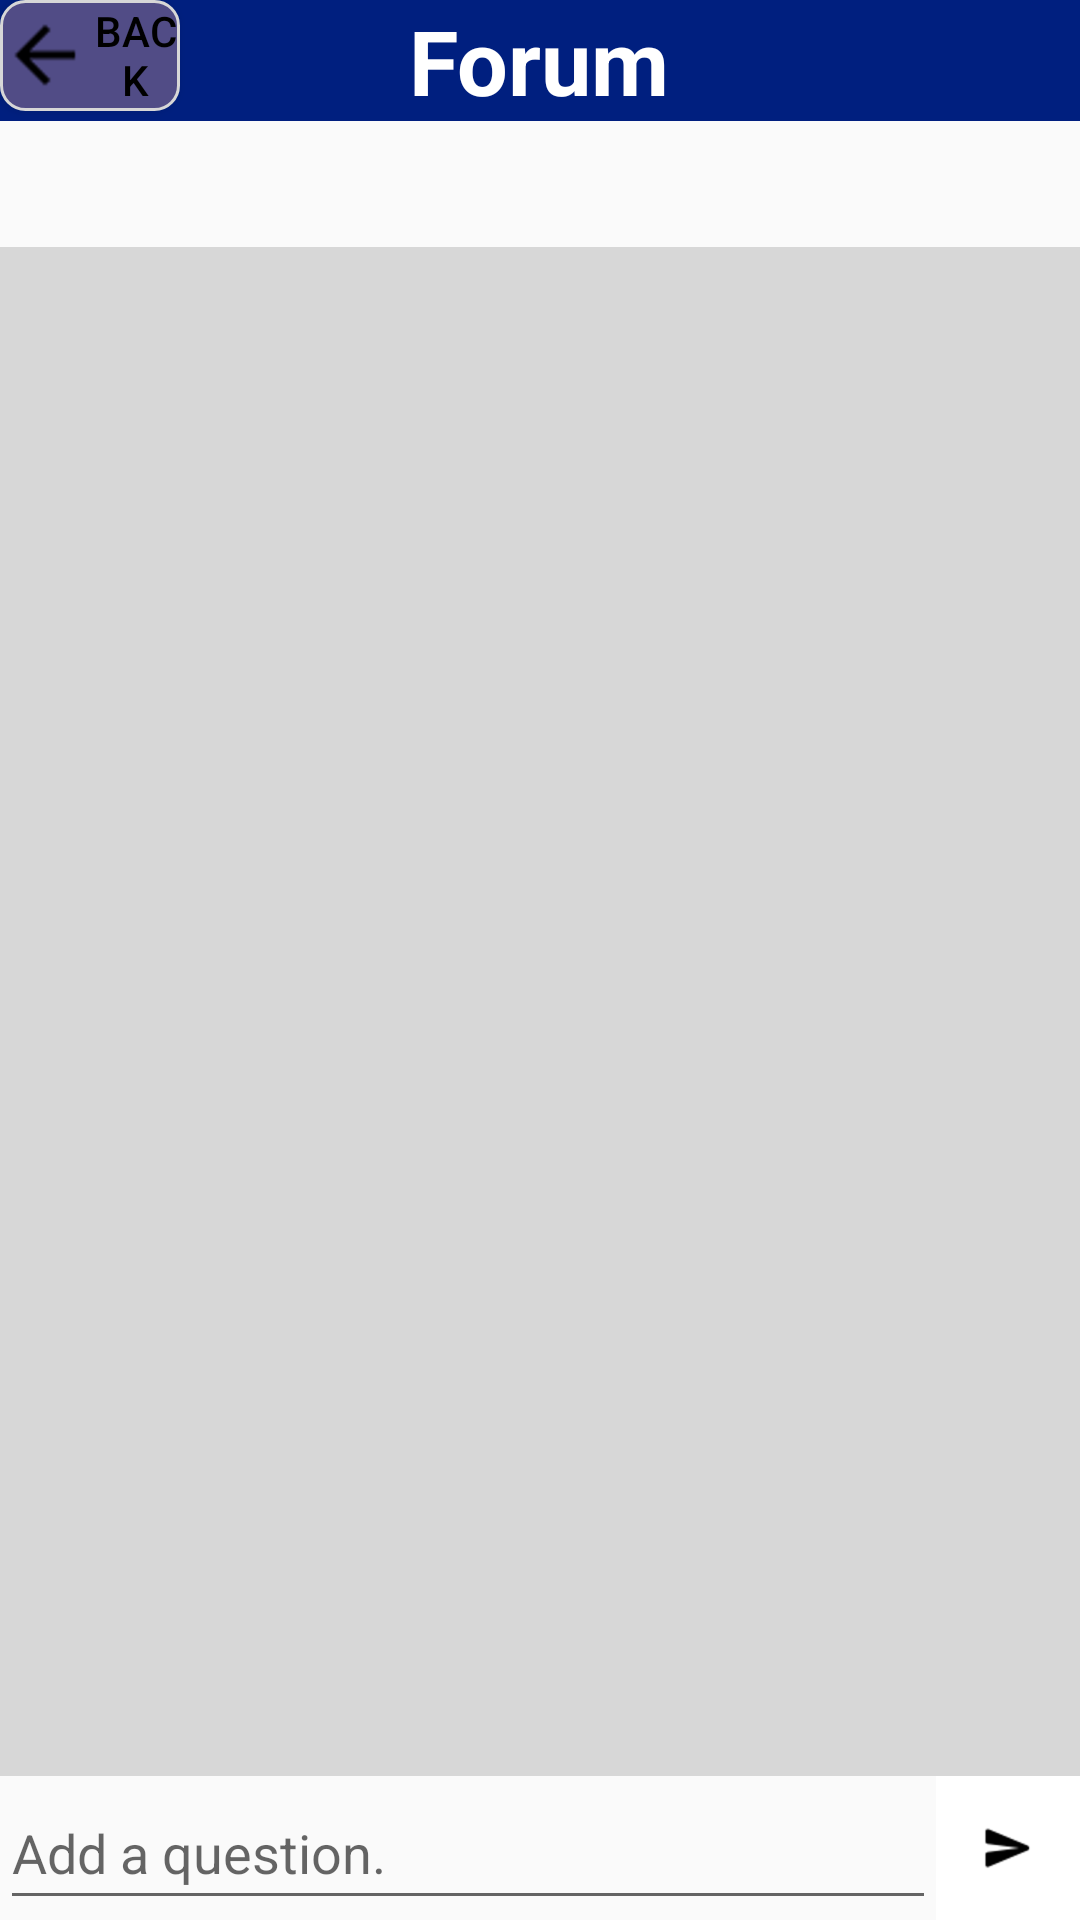

Named icons in this screenshot (1080×1920) and their centers, (x,y):
send: (1007,1848)
